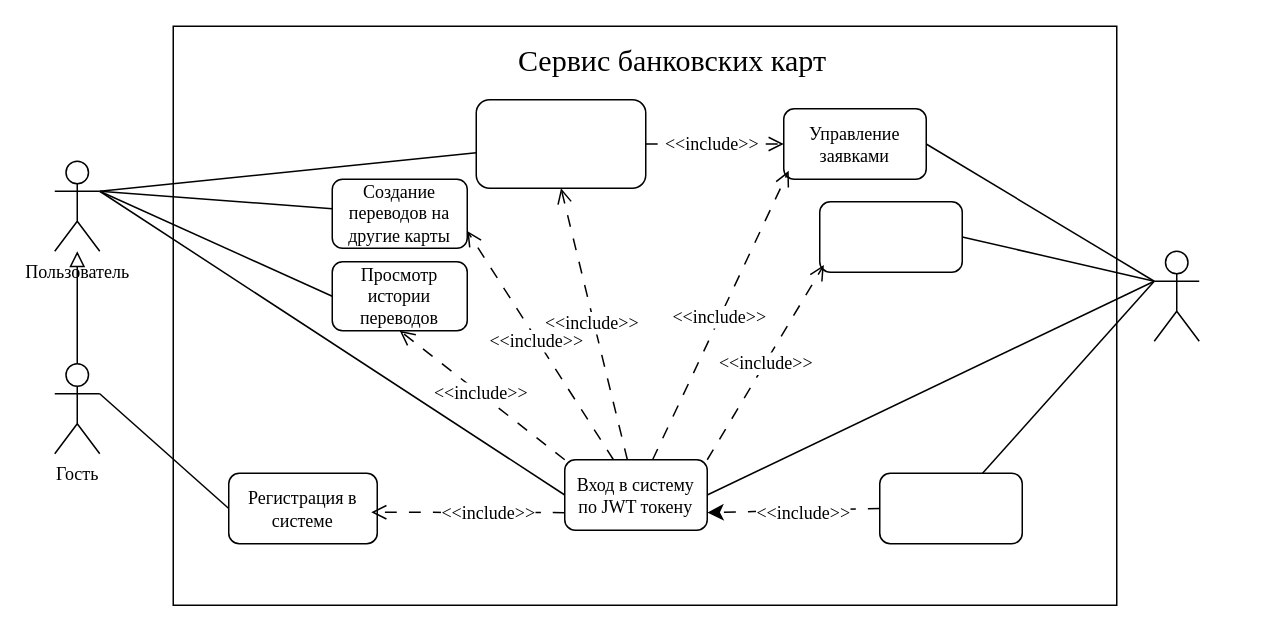
The diagram is 1268 pixels wide and 632 high, and some of its shapes have lost their labels. Here are the shapes that lost their labels. From the top down, the box of each, then its label:
(475, 98, 646, 188): Создание заявок администратору (на создание карт и др.)
(818, 200, 962, 272): Управление пользователями
(1153, 250, 1199, 341): Администратор
(878, 472, 1022, 544): Управление картами
